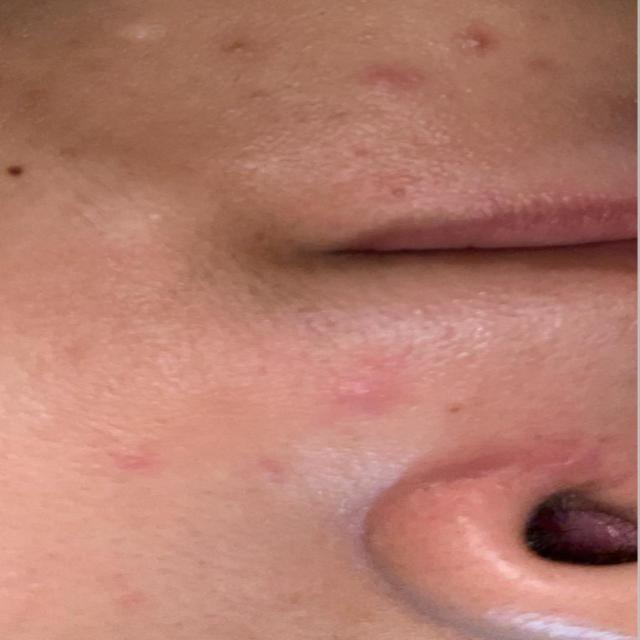papule: (299, 51, 441, 114), (322, 354, 425, 422)
pustule: (445, 25, 495, 65)
